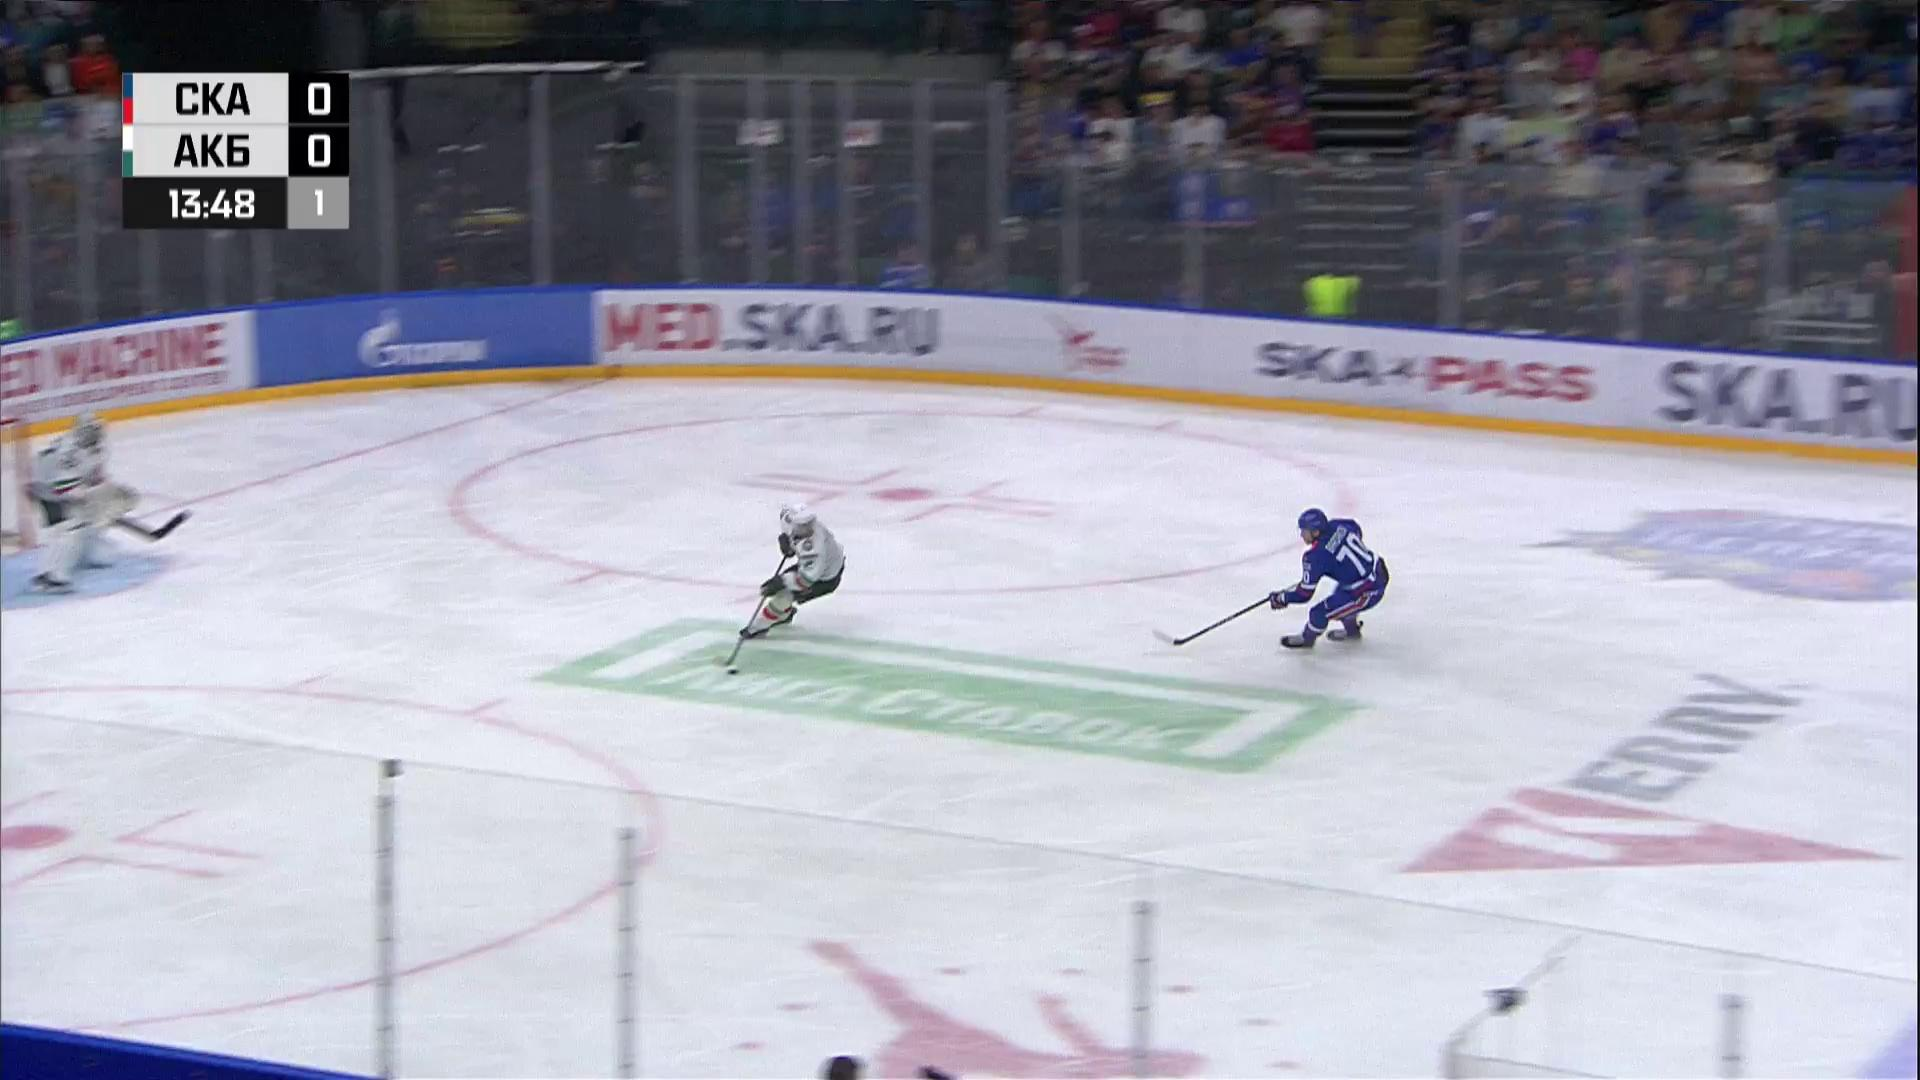ball: (728, 669, 740, 676)
